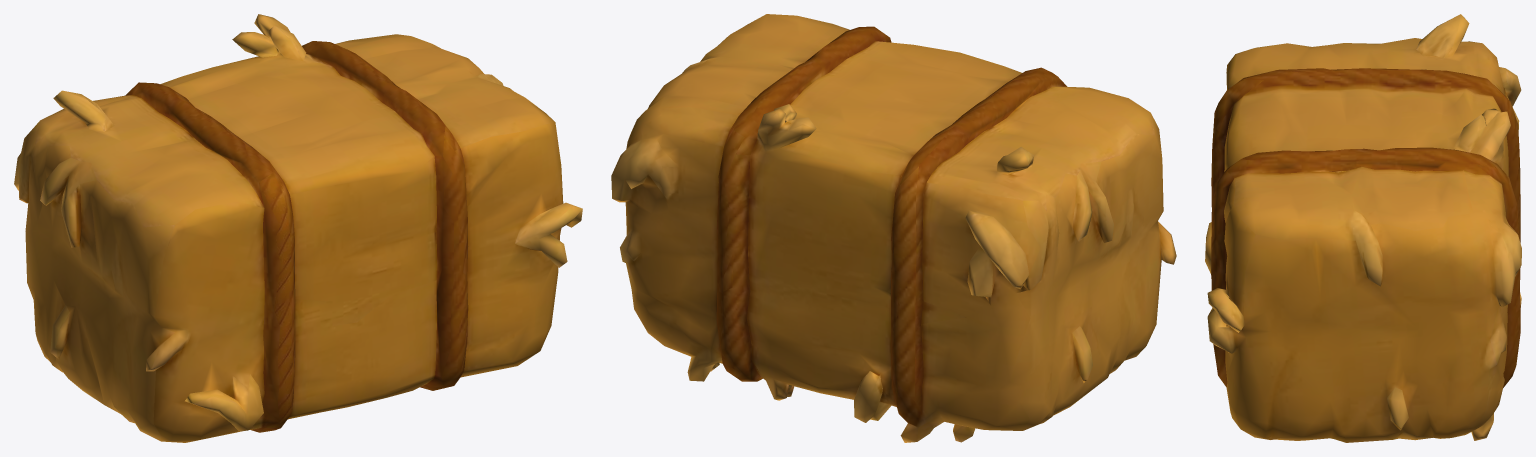
The model's file is hay_bale.glb.
3 views of the same model, side by side, from view 1: azimuth 30°, elevation 25°; view 2: azimuth 150°, elevation 25°; view 3: azimuth 270°, elevation 25° (orthographic). The views are drawn at different scales.
Visible parts, largest first — view 1: textured_mesh.obj; view 2: textured_mesh.obj; view 3: textured_mesh.obj.
Part boxes in pixels (x1,y1,x2,y2): textured_mesh.obj: (14, 14, 582, 442); textured_mesh.obj: (611, 14, 1176, 442); textured_mesh.obj: (1205, 14, 1521, 442).
Size of what is drawn, in the model's own units: 1.06 by 0.72 by 0.7011.
Materials: 1 (1 with a texture image).
